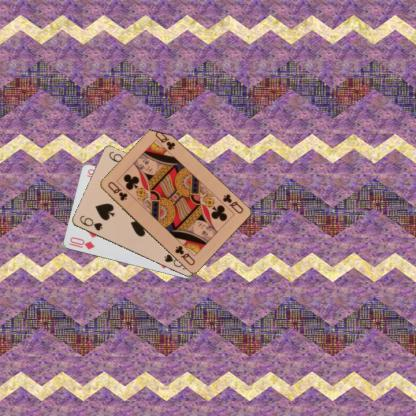10d: (66, 234, 96, 250)
6s: (77, 213, 103, 232)
Qc: (220, 191, 245, 215), (105, 179, 129, 202)
